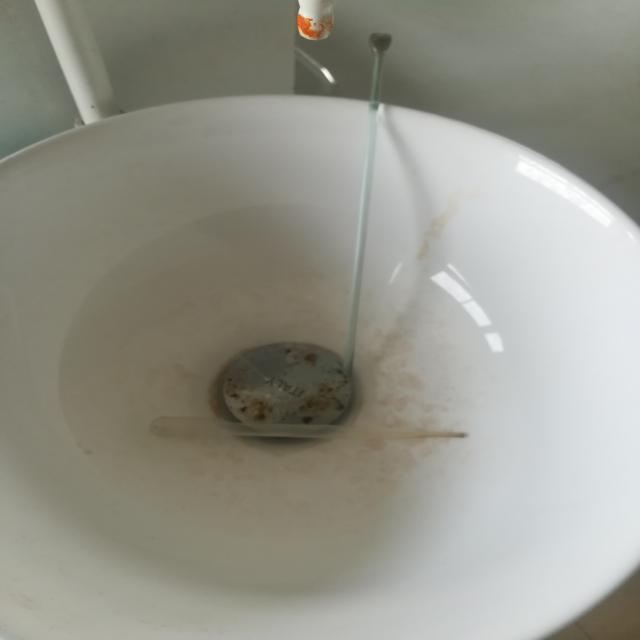Glass_Rod: (325, 0, 411, 407)
Pipette: (114, 402, 483, 453)
